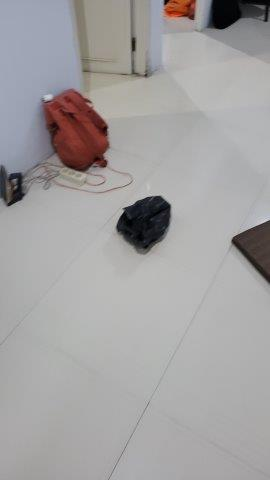plastik: (112, 190, 175, 256)
